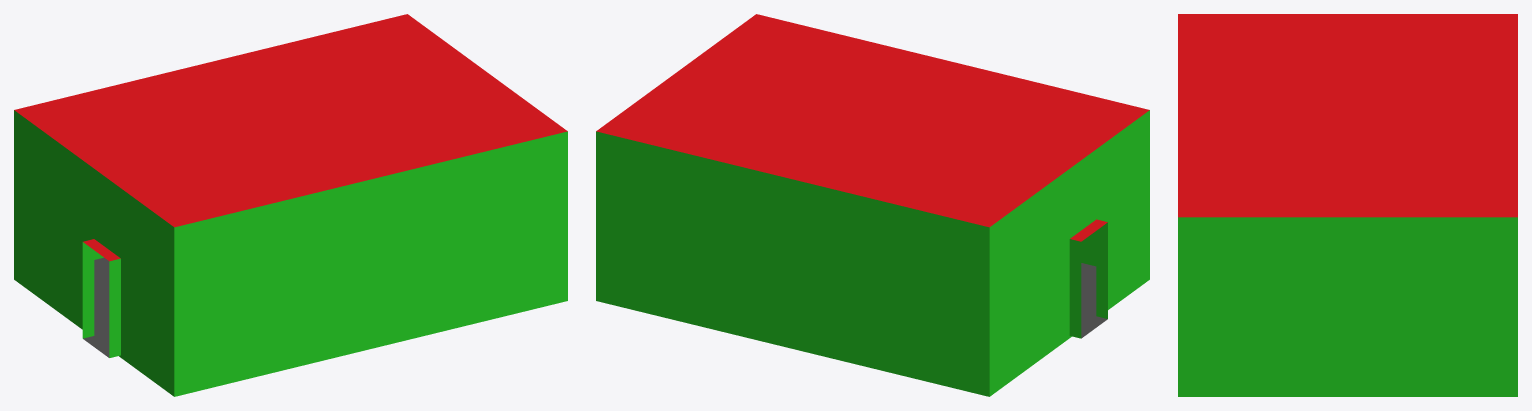
The model's file is Floor2_BathroomMesh.gltf.
3 views of the same model, side by side, from view 1: azimuth 30°, elevation 25°; view 2: azimuth 150°, elevation 25°; view 3: azimuth 270°, elevation 25° (orthographic). The views are drawn at different scales.
Visible parts, largest first — view 1: Floor2_BathroomMesh; view 2: Floor2_BathroomMesh; view 3: Floor2_BathroomMesh.
Part boxes in pixels (x1,y1,x2,y2): Floor2_BathroomMesh: [14, 14, 567, 396]; Floor2_BathroomMesh: [596, 14, 1149, 396]; Floor2_BathroomMesh: [1178, 14, 1517, 396].
Size of the model in its own units: 17.5 by 7 by 12.
